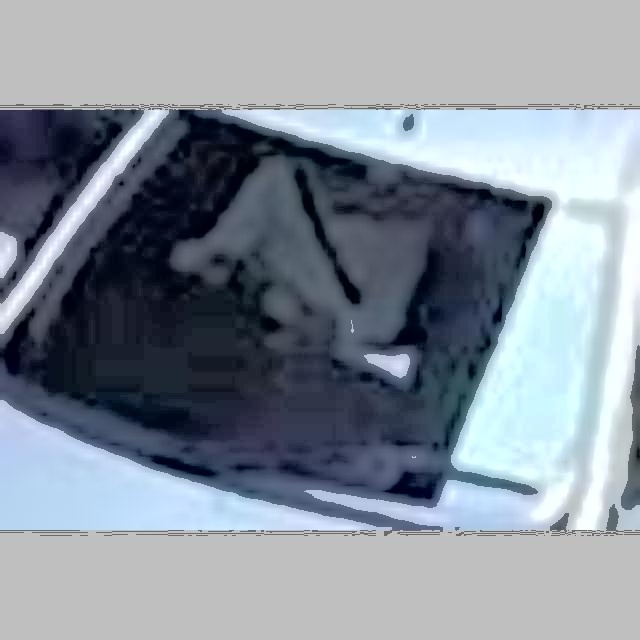pakai: (225, 134, 409, 359)
